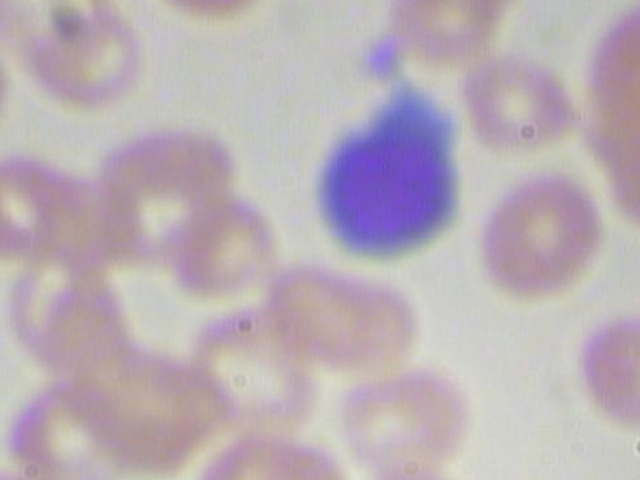Platelets: (363, 29, 409, 84)
WBC: (292, 80, 483, 282)
